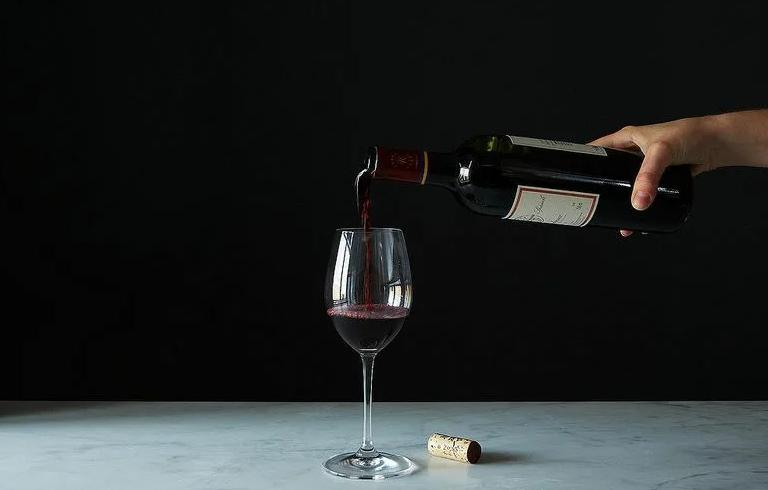wine bottle: (361, 131, 696, 236)
wine label: (503, 184, 600, 227)
